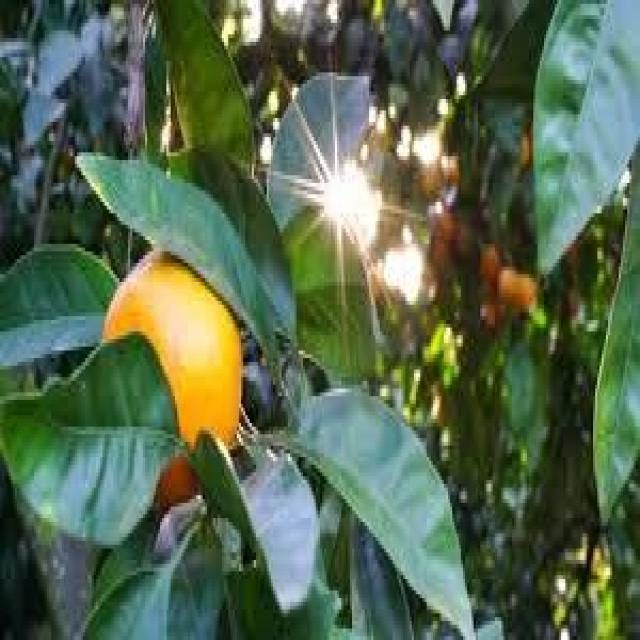fruit: (96, 245, 256, 513), (340, 12, 375, 76), (430, 211, 461, 273), (502, 122, 530, 176), (436, 32, 466, 82), (419, 156, 449, 198), (480, 296, 509, 338), (515, 267, 541, 309), (453, 218, 479, 259), (494, 267, 522, 302), (439, 148, 462, 189), (370, 265, 391, 305), (479, 245, 498, 284), (482, 278, 501, 311), (441, 181, 459, 214), (426, 275, 440, 303), (448, 218, 461, 244)
